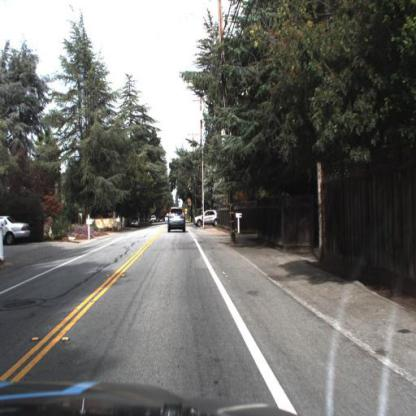car: (166, 204, 187, 233), (192, 207, 218, 224)
